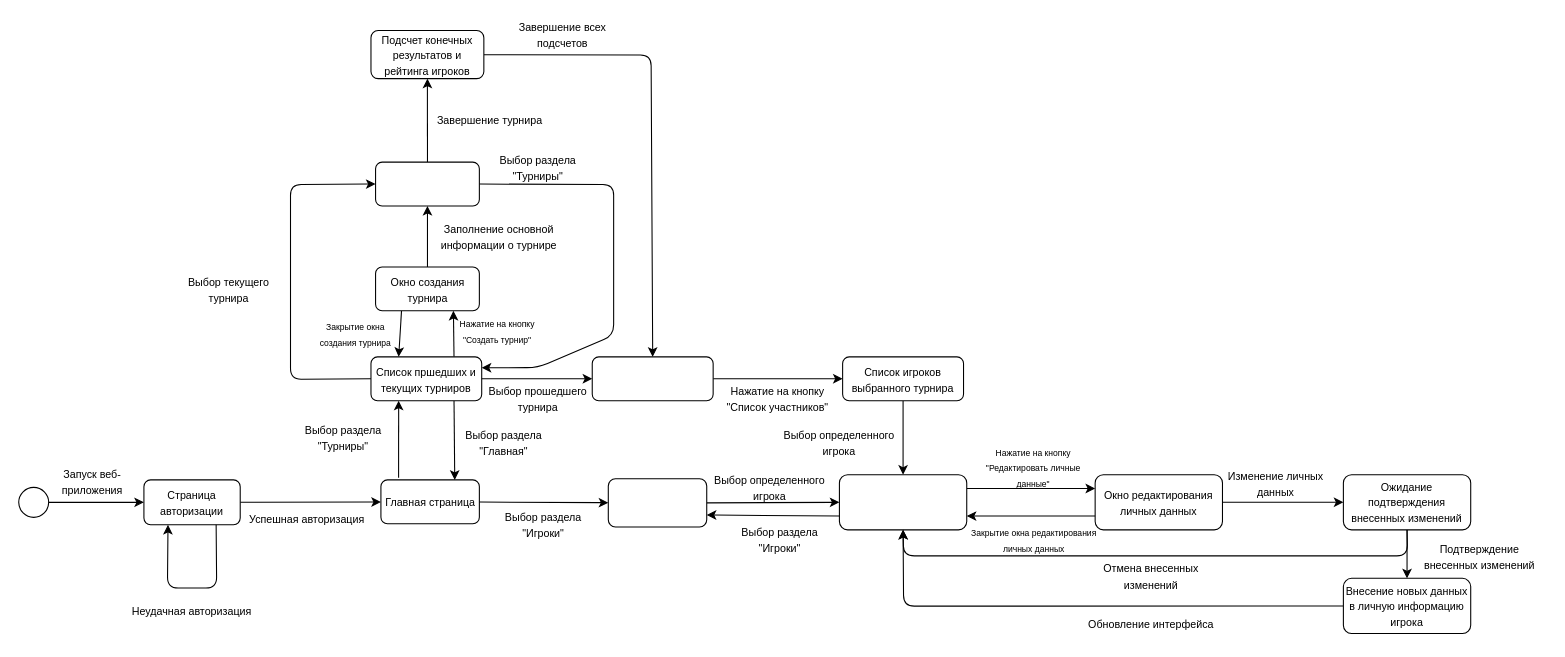
Some shapes in this 1565 by 657 pixel diagram are drawn without their labels. The shapes that lost their labels are listed below. From the top down, each one's centre as x and y in pixels, then its label:
At (x=426, y=183): "Окно турнирной сетки".
At (x=652, y=378): "Страница подробной информации о турнире".
At (x=657, y=502): "Список всех игроков".
At (x=902, y=502): "Подробная информация об игроке".
